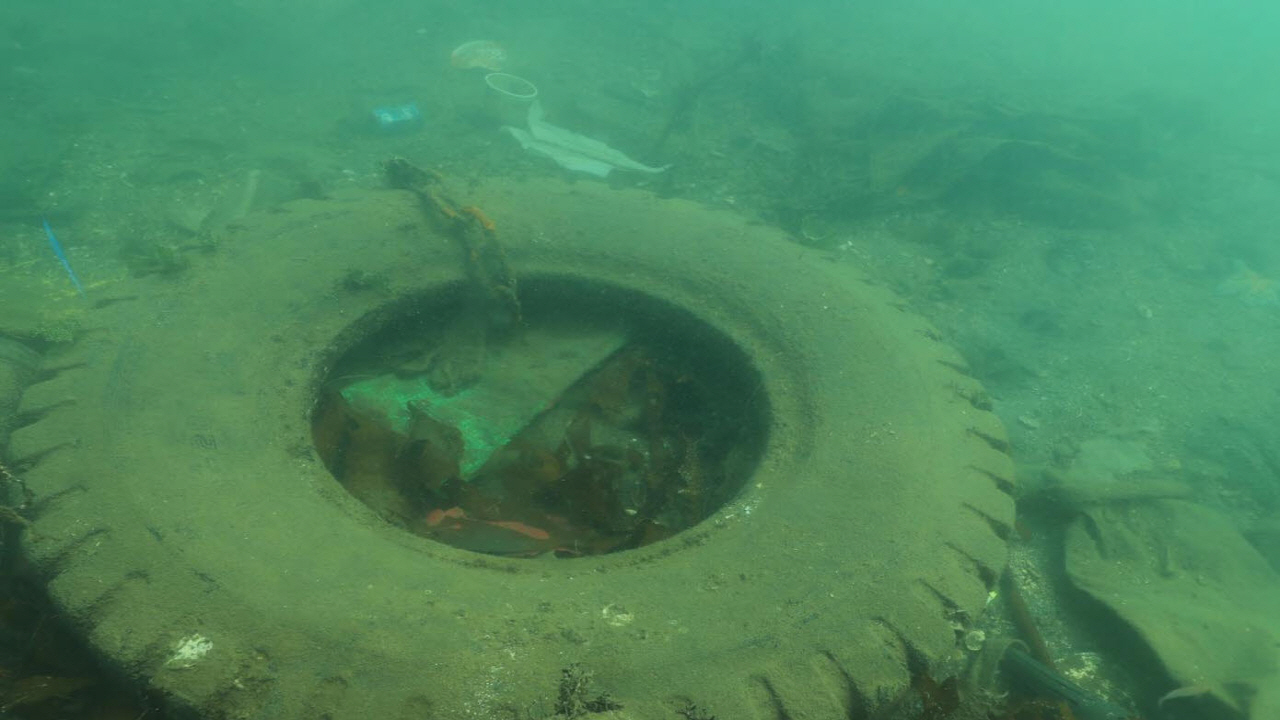tire: (0, 168, 1018, 719)
